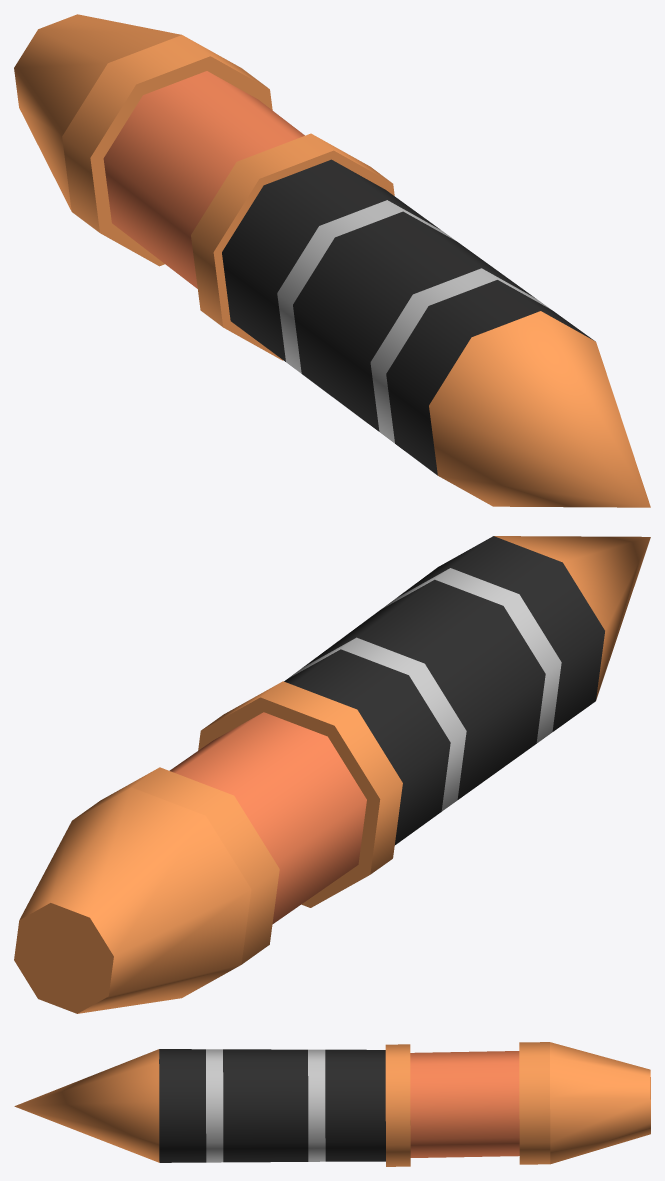
Rendered from Bullet.glb.
3 views of the same model, one above another, from view 1: azimuth 30°, elevation 25°; view 2: azimuth 150°, elevation 25°; view 3: azimuth 270°, elevation 25° (orthographic). The views are drawn at different scales.
Parts seen in each view (by area): view 1: Bullet; view 2: Bullet; view 3: Bullet.
Part boxes in pixels (x1=…): Bullet: x1=14, y1=14, x2=650, y2=507; Bullet: x1=14, y1=536, x2=650, y2=1013; Bullet: x1=14, y1=1042, x2=650, y2=1166.
Size of the model in its own units: 0.0709 by 0.0726 by 0.3808.
Materials: 1 (1 with a texture image).
